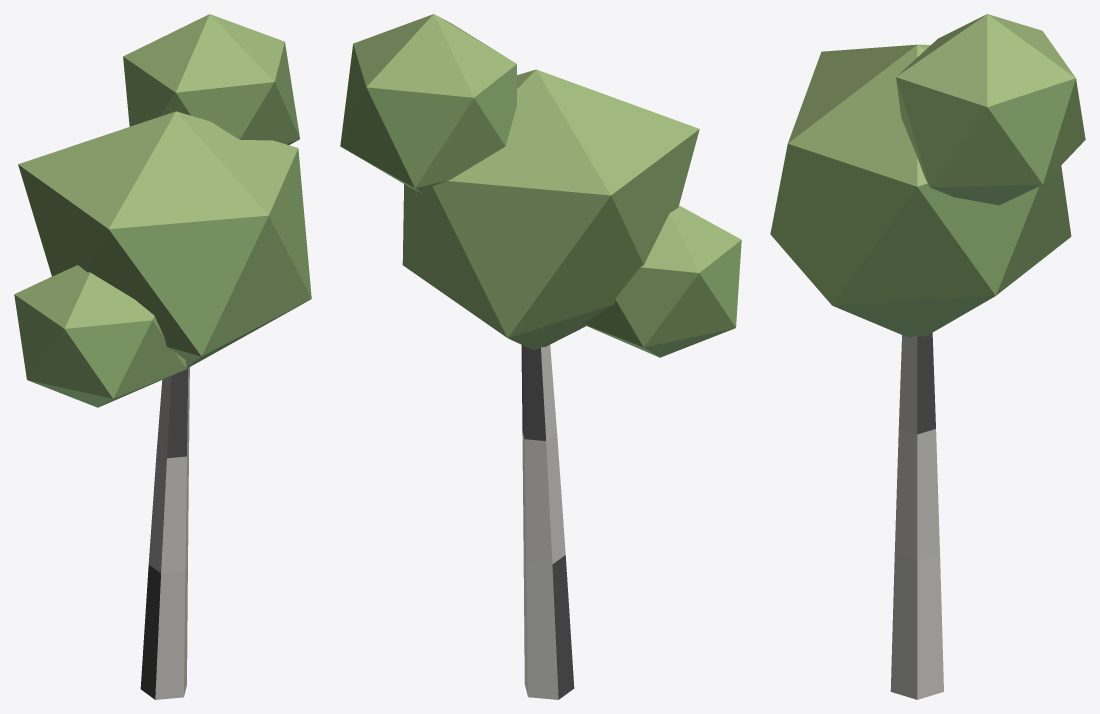
File: birch.glb
The picture shows the model from 3 angles, left to right: view 1: azimuth 30°, elevation 25°; view 2: azimuth 150°, elevation 25°; view 3: azimuth 270°, elevation 25°; orthographic projection. The views are drawn at different scales.
Visible parts, largest first — view 1: birch; view 2: birch; view 3: birch.
Boxes of the visible parts, box(x1,y1,x2,y2) form: birch: box(14, 14, 311, 699); birch: box(340, 14, 741, 699); birch: box(770, 14, 1085, 699).
Bounding box in the file's own units: 2.86 × 5.64 × 2.25.
